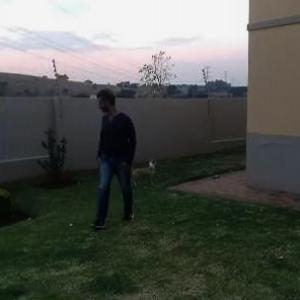follow: (96, 87, 140, 221)
